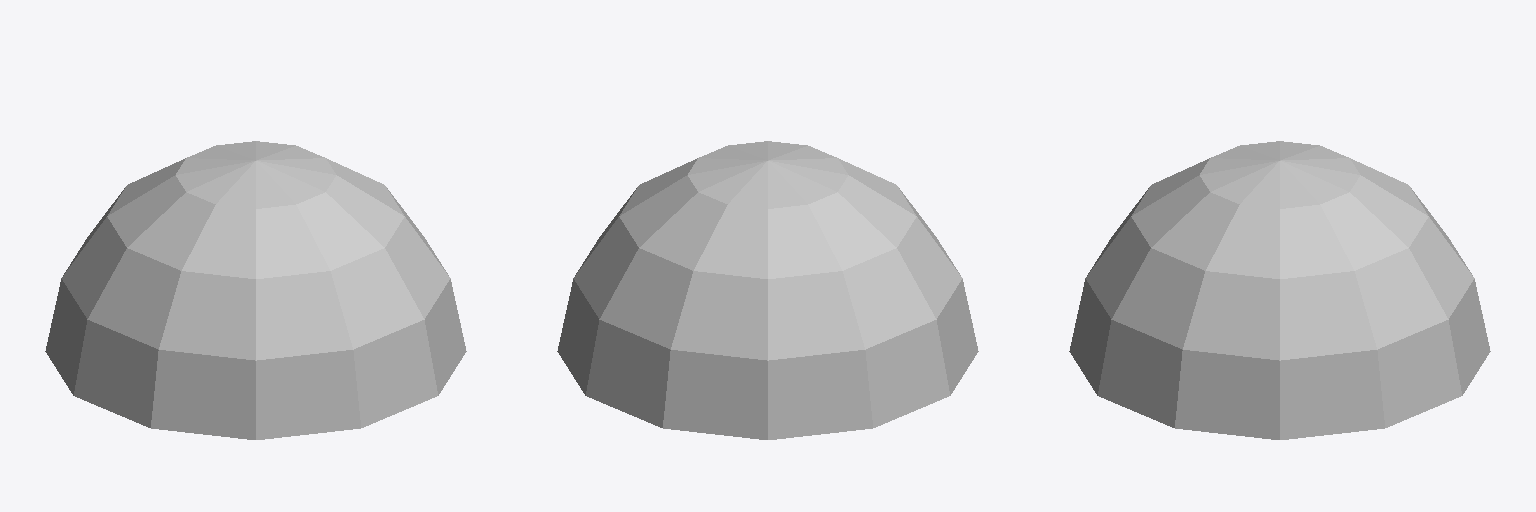
Rendered from Hemisphere.obj.
The picture shows the model from 3 angles: view 1: azimuth 30°, elevation 25°; view 2: azimuth 150°, elevation 25°; view 3: azimuth 270°, elevation 25°; orthographic projection.
Parts seen in each view (by area): view 1: Sphere; view 2: Sphere; view 3: Sphere.
Boxes of the visible parts, x1=… form: Sphere: x1=45, y1=141, x2=466, y2=439; Sphere: x1=557, y1=141, x2=978, y2=439; Sphere: x1=1069, y1=141, x2=1490, y2=439.
Bounding box in the file's own units: 2 × 1 × 2.